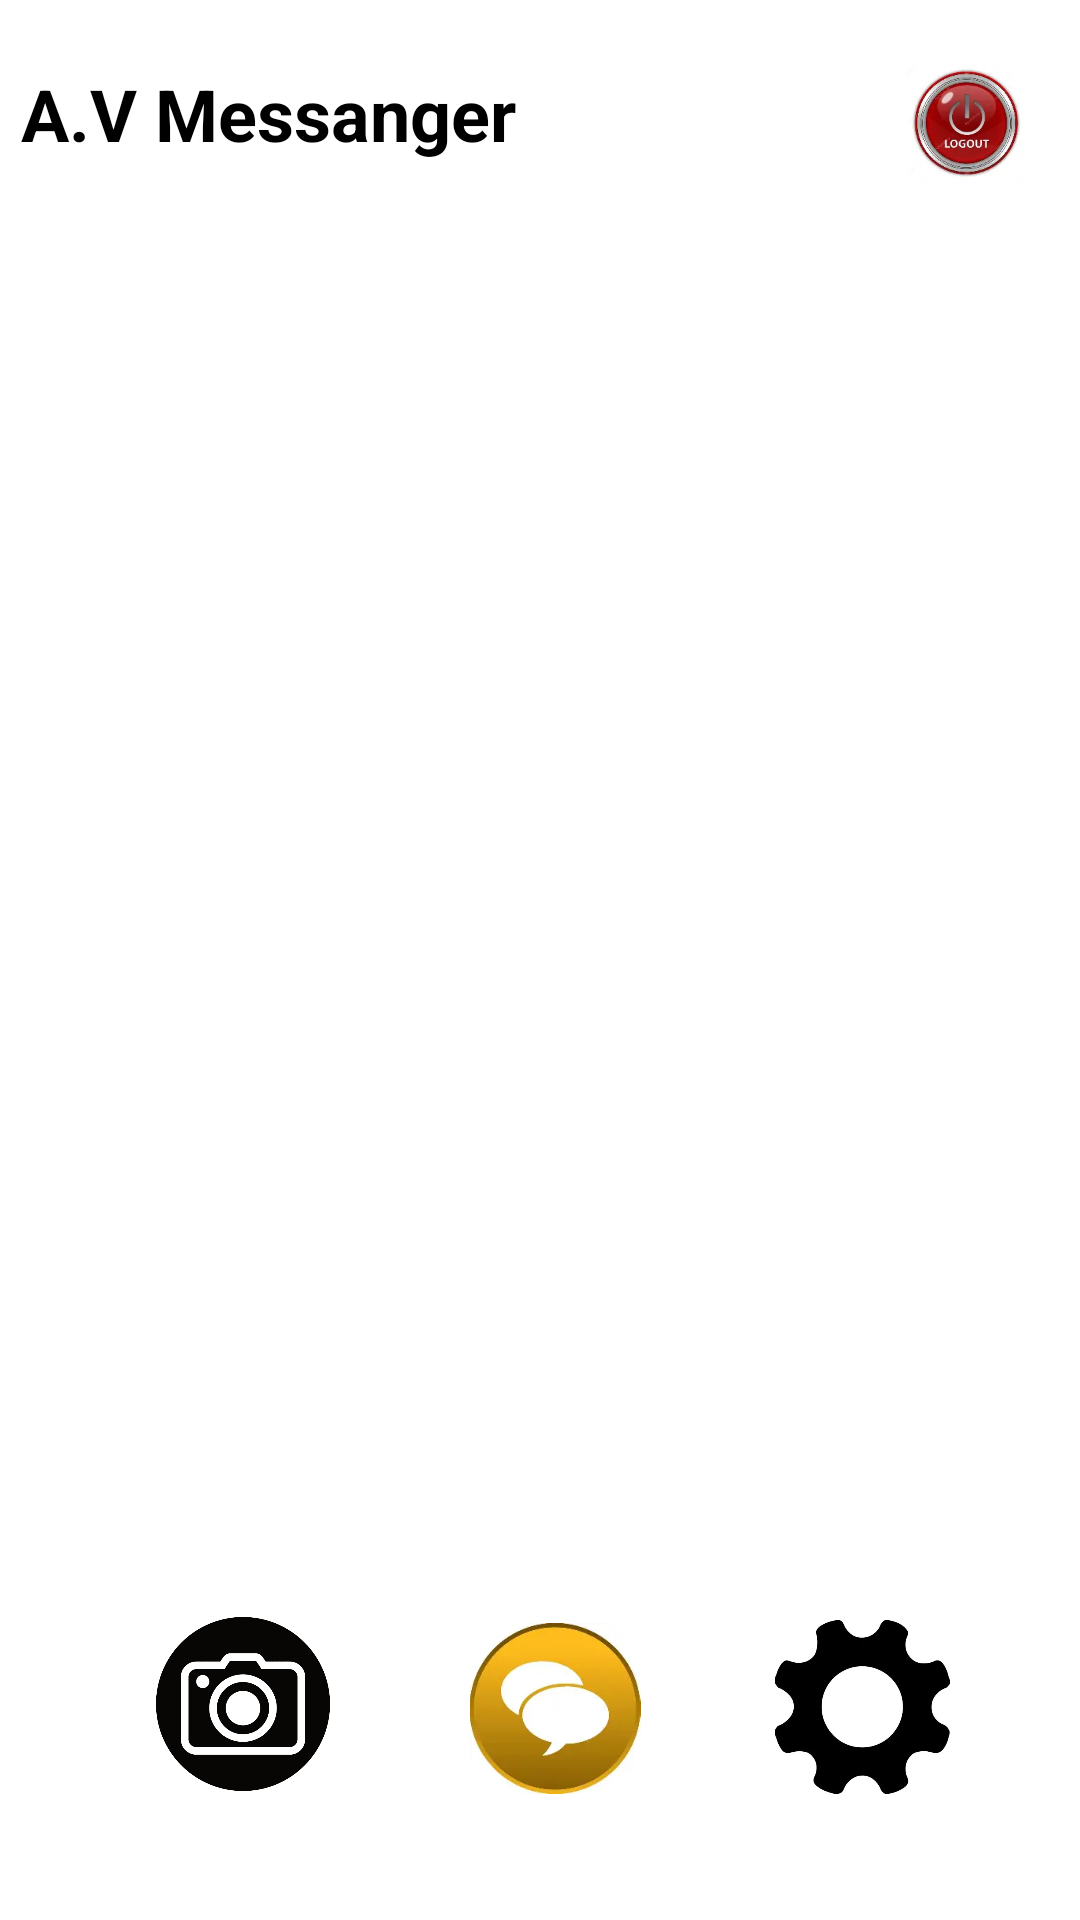

Screen size 1080px x 1920px. Icon name, then its center in pixels as (x,y):
chat: (555,1708)
photo: (243,1704)
sett: (862,1707)
